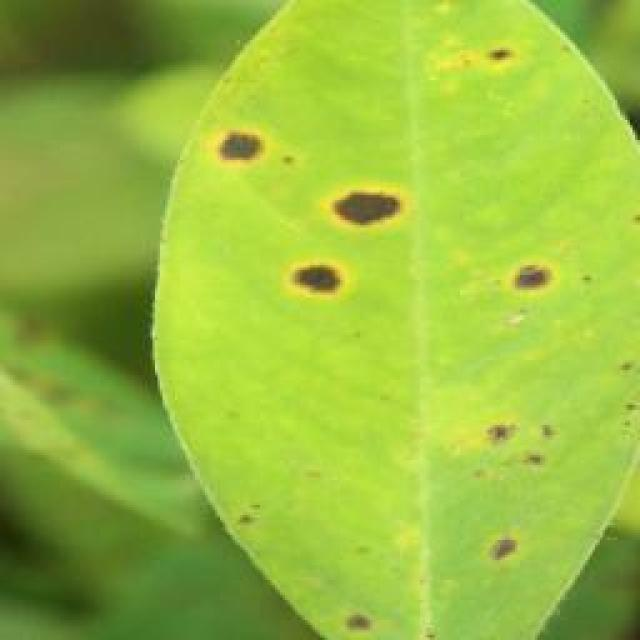Early_leaf_spot: (272, 148, 414, 242), (210, 224, 360, 309), (472, 381, 581, 494), (482, 235, 594, 317), (481, 505, 545, 590), (194, 110, 259, 188), (304, 599, 401, 640), (487, 42, 539, 110)
